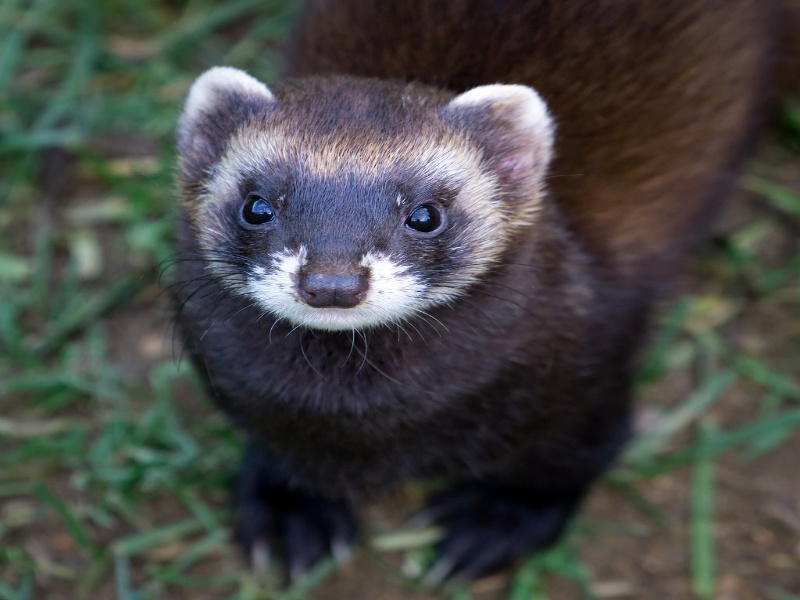minkish: (168, 4, 790, 584)
